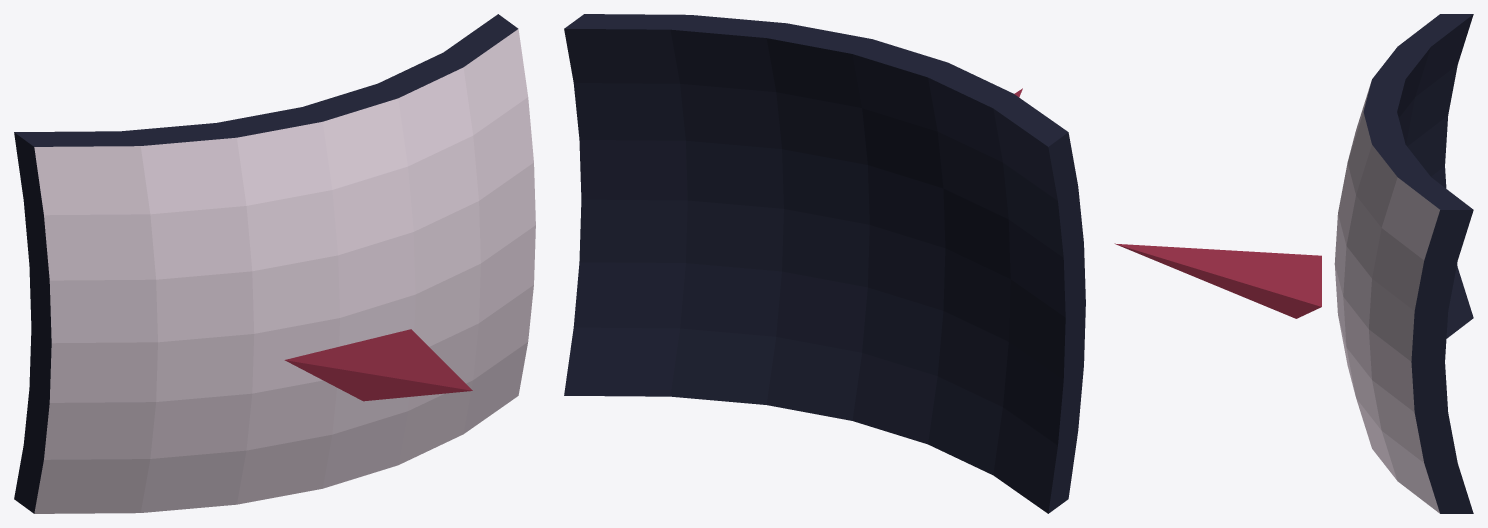
Rendered from mask_KGB_MASK_Tengu_Wearable_DRAFT_v01.glb.
The picture shows the model from 3 angles, left to right: view 1: azimuth 30°, elevation 25°; view 2: azimuth 150°, elevation 25°; view 3: azimuth 270°, elevation 25°; orthographic projection. The views are drawn at different scales.
Visible parts, largest first — view 1: KGB_MASK_Tengu_Wearable_DRAFT_v01; view 2: KGB_MASK_Tengu_Wearable_DRAFT_v01; view 3: KGB_MASK_Tengu_Wearable_DRAFT_v01.
Boxes of the visible parts, left/top/right/bottom form: KGB_MASK_Tengu_Wearable_DRAFT_v01: left=14, top=14, right=535, bottom=513; KGB_MASK_Tengu_Wearable_DRAFT_v01: left=564, top=14, right=1085, bottom=513; KGB_MASK_Tengu_Wearable_DRAFT_v01: left=1114, top=14, right=1473, bottom=513.
Size of the model in its own units: 1.45 by 1.05 by 1.12.
